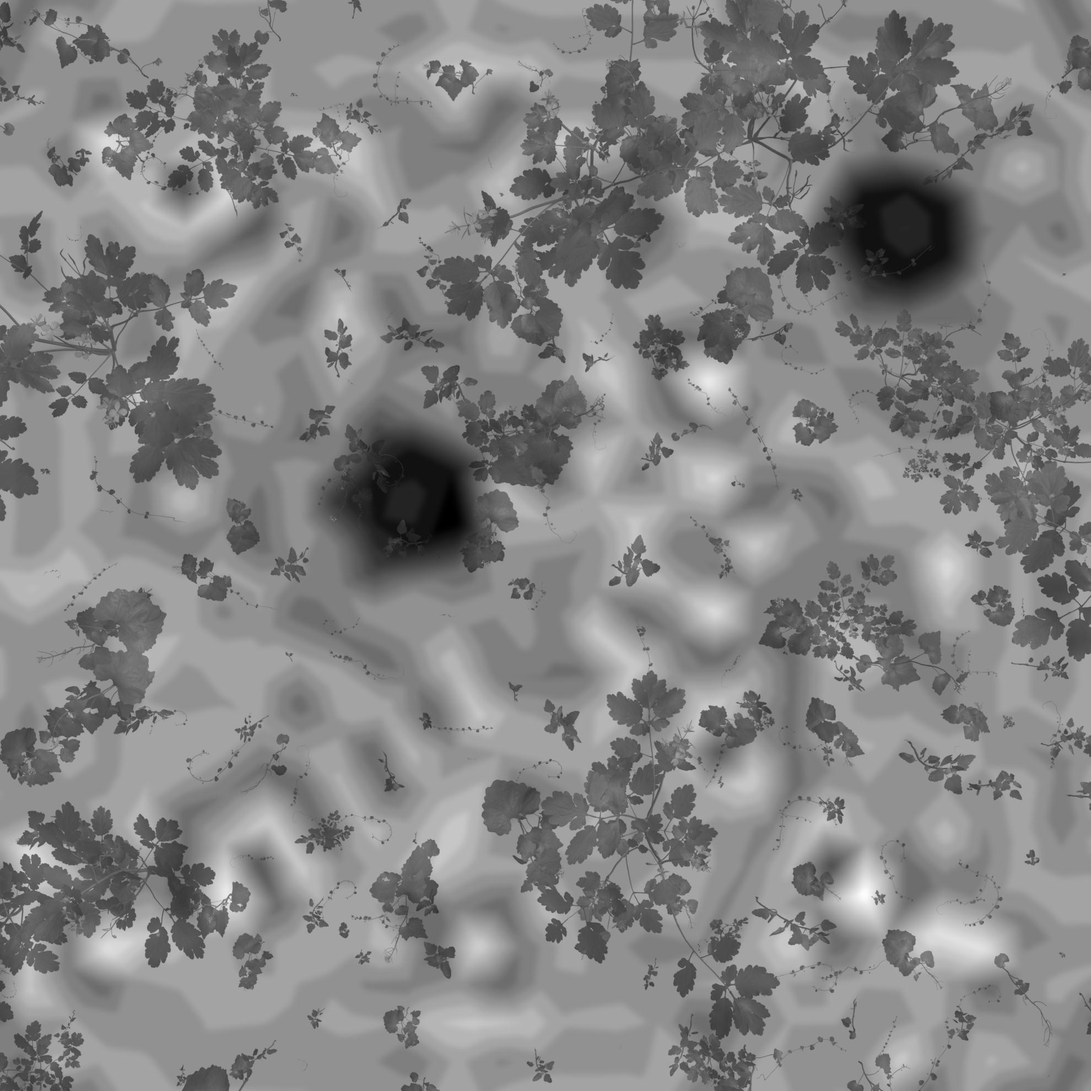landmine: (333, 433, 491, 580), (840, 175, 966, 289)
